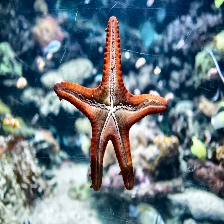starfish: (53, 13, 169, 197)
